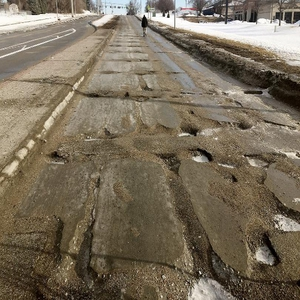pothole: (247, 230, 278, 271), (272, 205, 300, 231), (245, 153, 276, 172), (188, 147, 212, 166), (178, 127, 200, 137)
